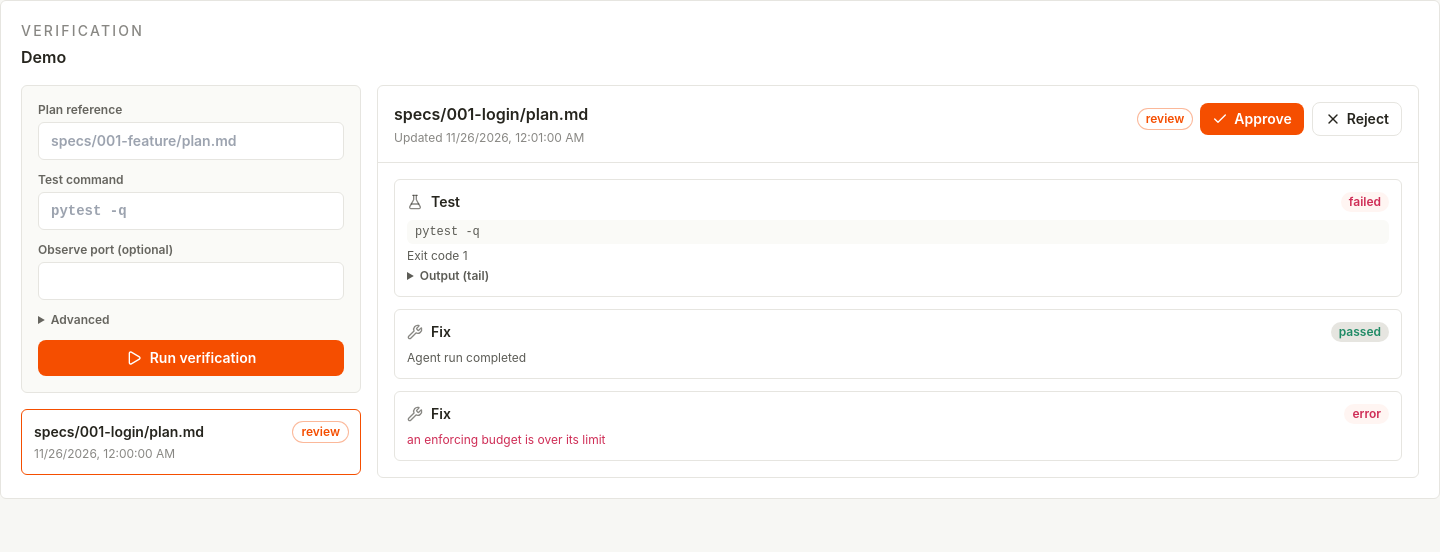
Scenario: VerificationPanel › shows fix attempts and the failing test output
The image size is (1440, 552).
Click the heading "Output (tail)" at (454,276), box x1=420 y1=268 x2=489 y2=283
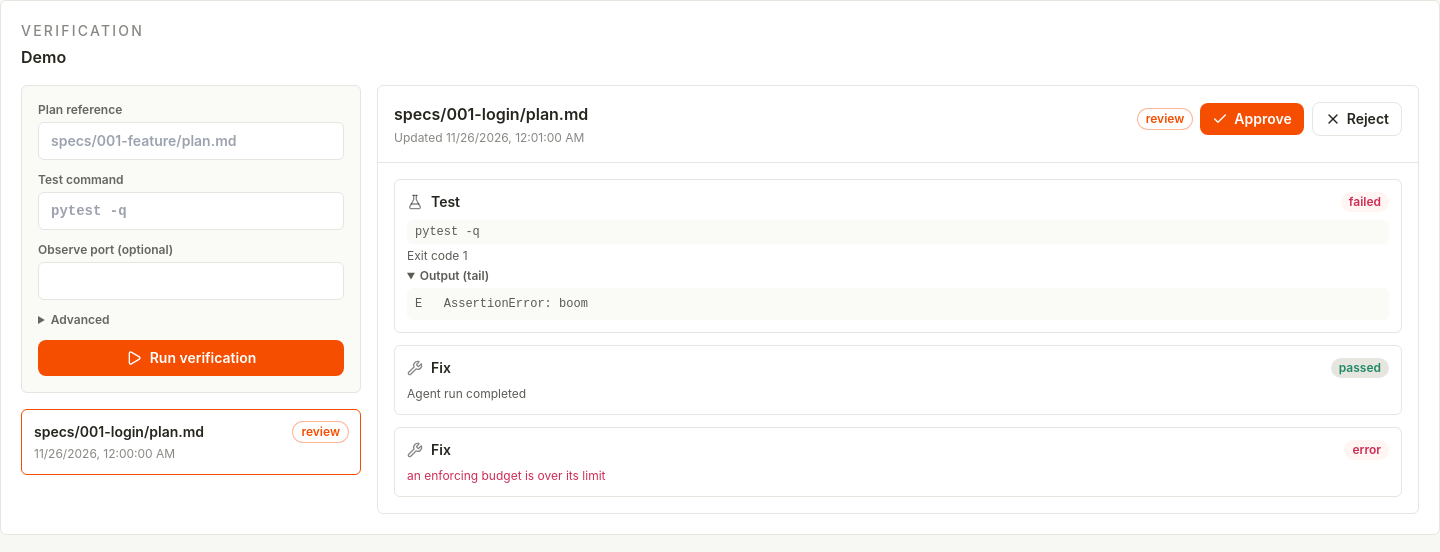
Expected: the text "Agent run completed" is shown, x1=407 y1=386 x2=526 y2=401
Expected: the text "E AssertionError: boom" is shown, x1=407 y1=288 x2=1389 y2=320
